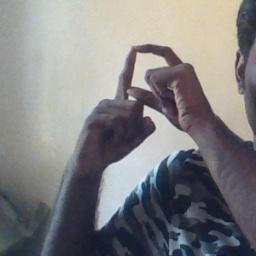D: (107, 39, 194, 125)
